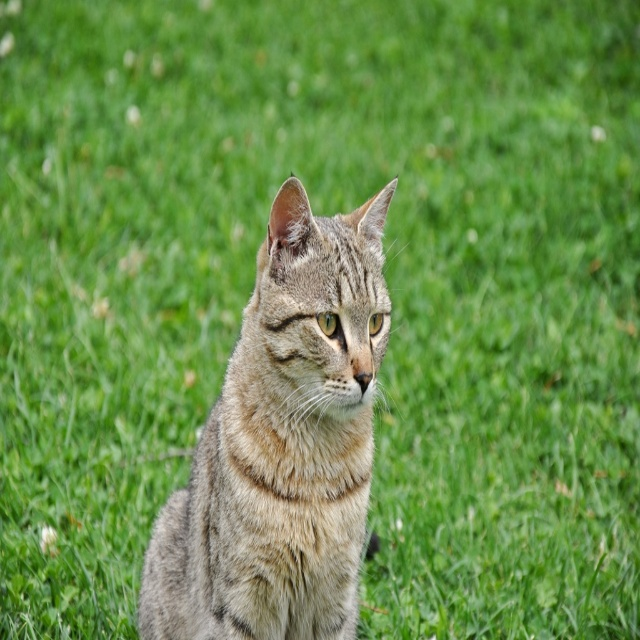Lynx: (134, 169, 412, 639)
